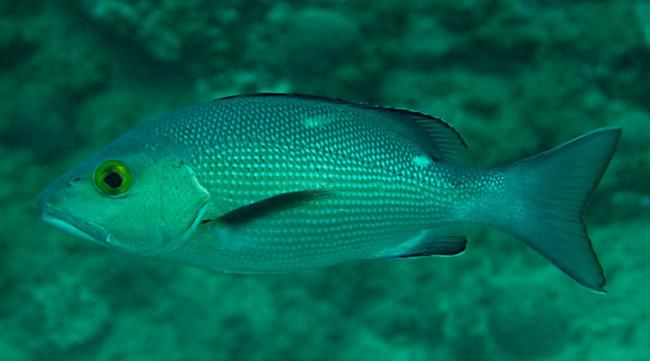fish: (37, 93, 623, 294)
